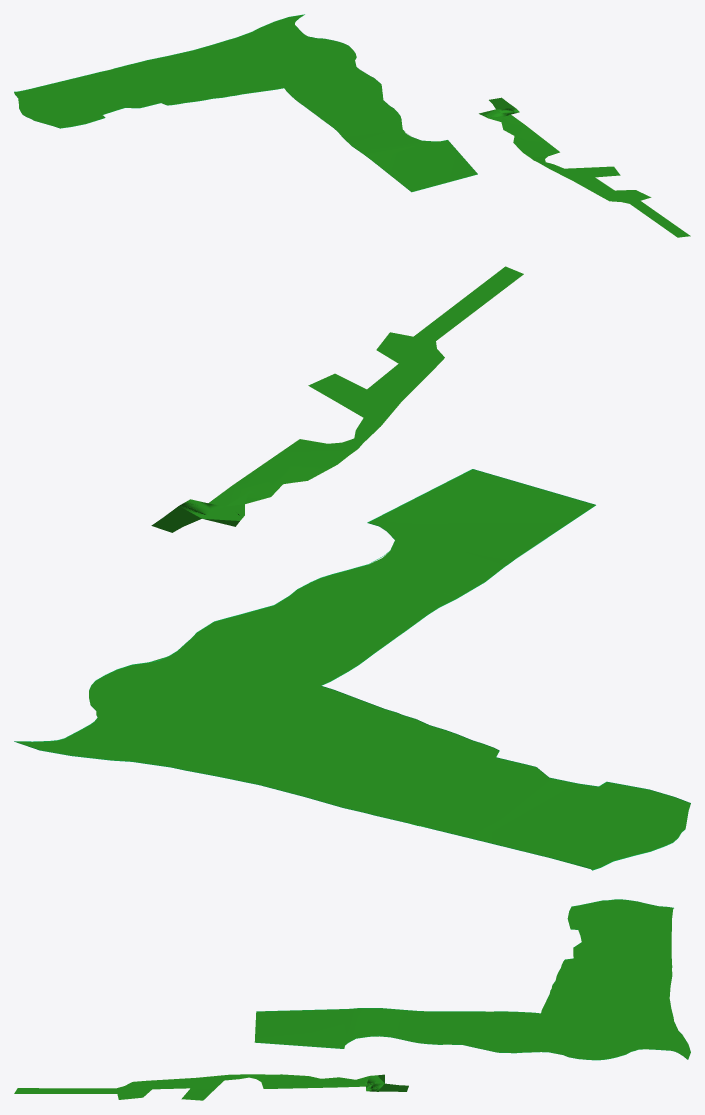
File: Parque_Guaymaral_02.fbx
3 renders of one model, top to bottom at view 1: azimuth 30°, elevation 25°; view 2: azimuth 150°, elevation 25°; view 3: azimuth 270°, elevation 25°, orthographic. The views are drawn at different scales.
Visible parts, largest first — view 1: PolyShape__1_, er; view 2: PolyShape__1_, er; view 3: PolyShape__1_, er.
Part boxes in pixels (box(x1,y1,x2,y2)): PolyShape__1_: box(14, 14, 477, 192); er: box(479, 97, 690, 237); PolyShape__1_: box(14, 469, 690, 870); er: box(151, 266, 523, 532); PolyShape__1_: box(254, 899, 690, 1060); er: box(14, 1074, 408, 1100).
Size of the model in its own units: 166095 by 1327 by 237682.
